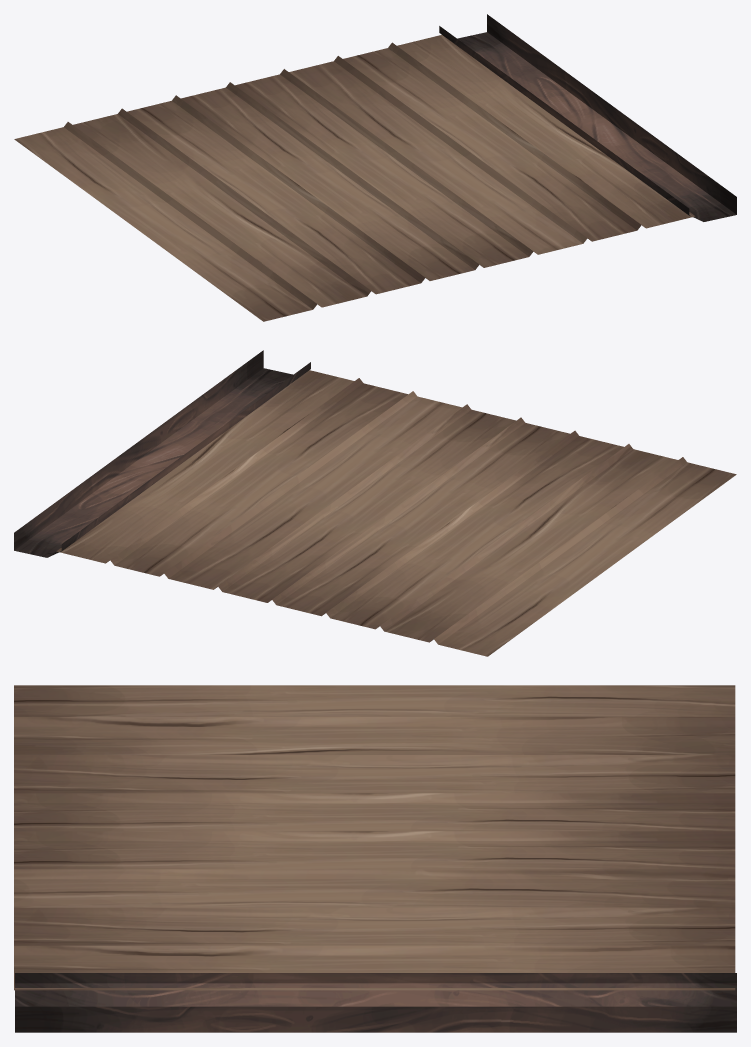
Rendered from Roof_Flat.fbx.
3 renders of one model, top to bottom at view 1: azimuth 30°, elevation 25°; view 2: azimuth 150°, elevation 25°; view 3: azimuth 270°, elevation 25°, orthographic. The views are drawn at different scales.
Parts seen in each view (by area): view 1: Flat_Roof; view 2: Flat_Roof; view 3: Flat_Roof.
Boxes of the visible parts, x1=… form: Flat_Roof: x1=14, y1=14, x2=736, y2=321; Flat_Roof: x1=14, y1=350, x2=736, y2=656; Flat_Roof: x1=14, y1=685, x2=736, y2=1032.
Bounding box in the file's own units: 1.32 × 0.0477 × 1.2.
